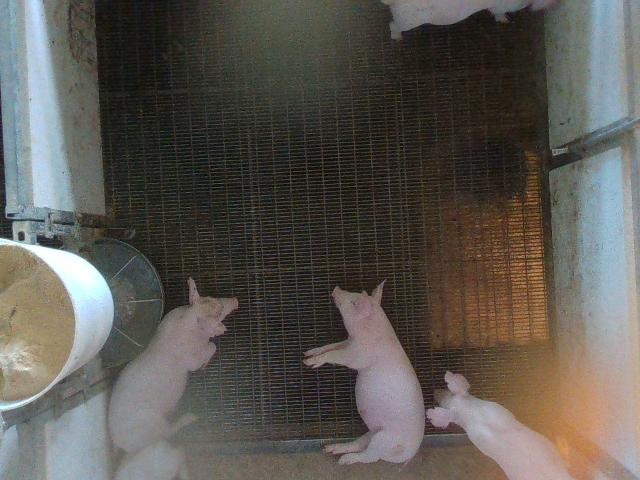pig-1: (304, 282, 424, 464)
